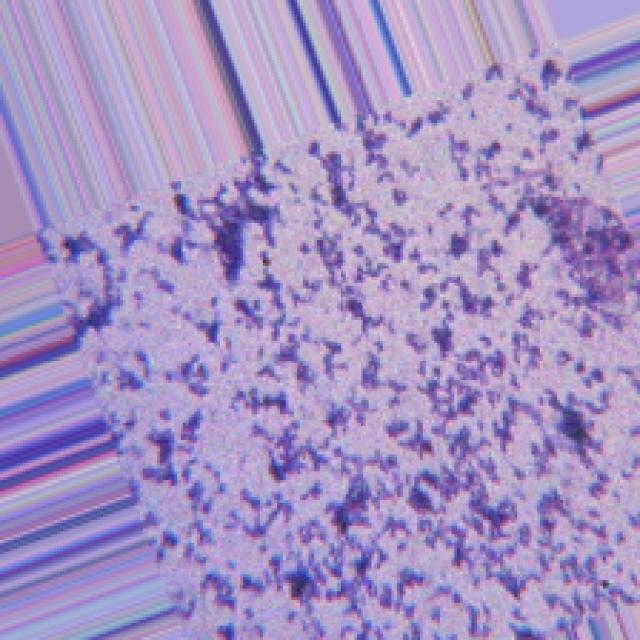Rod_bacteria: (32, 46, 637, 637)
